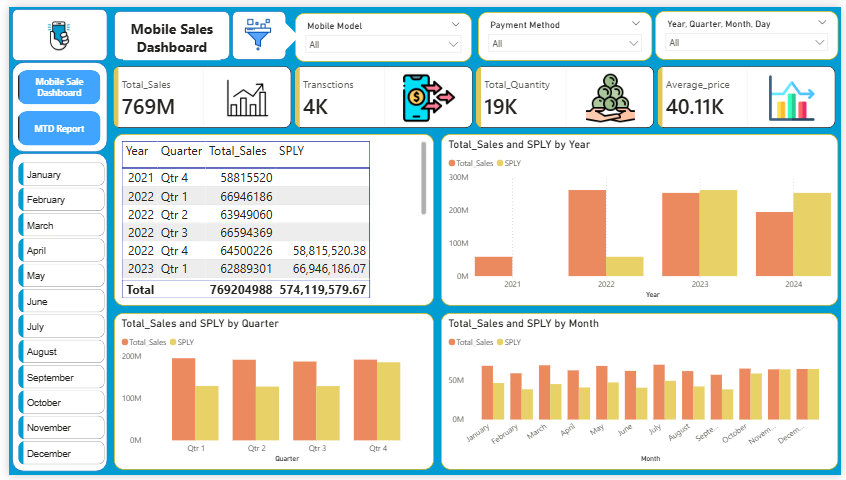

The dashboard page shown, as its layout file describes it:
{"tool":"powerbi","page":{"name":"Mobile Sale Dashboard","canvas":[1280,720],"ordinal":0},"visuals":[{"type":"shape","box":[5,3.3,146.7,80],"z":0},{"type":"image","box":[48.3,18.3,60,50],"z":1000},{"type":"shape","box":[5,85,146.7,138.3],"z":2000},{"type":"shape","box":[5,225,146.7,490],"z":3000},{"type":"advancedSlicerVisual","fields":{"Values":["Custom_Calendar.Date.Variation.Date Hierarchy.Month"]},"box":[8.3,236.7,138.3,478.3],"z":4000},{"type":"cardVisual","fields":{"Data":["Mobile_Sales_data.Total_Sales","Mobile_Sales_data.Transctions","Mobile_Sales_data.Total_Quantity","Mobile_Sales_data.Average_price"]},"box":[151.5,83.3,1128.8,112.1],"z":5000},{"type":"slicer","fields":{"Values":["Mobile_Sales_data.Mobile Model"]},"box":[439.4,8.5,272.1,75.1],"z":6000},{"type":"slicer","fields":{"Values":["Mobile_Sales_data.Payment Method"]},"box":[721.4,7.1,267.9,75.1],"z":7000},{"type":"slicer","fields":{"Values":["Mobile_Sales_data.Brand"]},"box":[993.5,5.7,282,75.1],"z":8000},{"type":"shape","box":[343.3,6.7,83.3,75],"z":9000},{"type":"shape","box":[400,23.3,46.7,45],"z":10000},{"type":"image","box":[343.3,5,80,75],"z":11000},{"type":"shape","box":[161.7,6.7,178,75],"z":12000},{"type":"textbox","box":[175,13.3,150,68.3],"z":13000},{"type":"azureMap","fields":{"Category":["Mobile_Sales_data.City"],"Size":["Mobile_Sales_data.Total_Sales"]},"box":[161.6,189.9,270,354.3],"z":14000},{"type":"lineChart","fields":{"Category":["Custom_Calendar.Date.Variation.Date Hierarchy.Month"],"Y":["Mobile_Sales_data.Total_Quantity"]},"box":[439.4,189.9,836.2,170.1],"z":15000},{"type":"funnel","fields":{"Y":["CountNonNull(Mobile_Sales_data.Customer Age)"],"Category":["Mobile_Sales_data.Rating Status"]},"box":[439.4,364.3,409.6,180],"z":16000},{"type":"pieChart","fields":{"Y":["Mobile_Sales_data.Transctions"],"Category":["Mobile_Sales_data.Payment Method"]},"box":[856.1,365.7,418.1,178.6],"z":17000},{"type":"clusteredBarChart","fields":{"Y":["Mobile_Sales_data.Total_Sales"],"Category":["Mobile_Sales_data.Mobile Model"]},"box":[439.4,548.5,408.2,164.4],"z":18000},{"type":"areaChart","fields":{"Y":["Mobile_Sales_data.Total_Sales"],"Category":["Custom_Calendar.Day Name"]},"box":[856.1,548.5,418.1,164],"z":19000},{"type":"tableEx","fields":{"Values":["Mobile_Sales_data.Brand","Mobile_Sales_data.Total_Sales","Mobile_Sales_data.Transctions"]},"box":[161.6,549.9,270,164.4],"z":20000},{"type":"pageNavigator","box":[14.2,96.4,127.6,116.2],"z":20001}]}

Visuals, with their boxes in screenshot pixels (x1, y1, x2, y2), scaled from the page's 1280x720 canvas onto the 846x480 screenshot:
shape: box=[3, 2, 100, 56]
image: box=[32, 12, 72, 46]
shape: box=[3, 57, 100, 149]
shape: box=[3, 150, 100, 477]
advancedSlicerVisual - Custom_Calendar.Date.Variation.Date Hierarchy.Month: box=[5, 158, 97, 477]
cardVisual - Mobile_Sales_data.Total_Sales x Mobile_Sales_data.Transctions: box=[100, 56, 845, 130]
slicer - Mobile_Sales_data.Mobile Model: box=[290, 6, 470, 56]
slicer - Mobile_Sales_data.Payment Method: box=[477, 5, 654, 55]
slicer - Mobile_Sales_data.Brand: box=[657, 4, 843, 54]
shape: box=[227, 4, 282, 54]
shape: box=[264, 16, 295, 46]
image: box=[227, 3, 280, 53]
shape: box=[107, 4, 225, 54]
textbox: box=[116, 9, 215, 54]
azureMap - Mobile_Sales_data.City x Mobile_Sales_data.Total_Sales: box=[107, 127, 285, 363]
lineChart - Custom_Calendar.Date.Variation.Date Hierarchy.Month x Mobile_Sales_data.Total_Quantity: box=[290, 127, 843, 240]
funnel - CountNonNull(Mobile_Sales_data.Customer Age) x Mobile_Sales_data.Rating Status: box=[290, 243, 561, 363]
pieChart - Mobile_Sales_data.Transctions x Mobile_Sales_data.Payment Method: box=[566, 244, 842, 363]
clusteredBarChart - Mobile_Sales_data.Total_Sales x Mobile_Sales_data.Mobile Model: box=[290, 366, 560, 475]
areaChart - Mobile_Sales_data.Total_Sales x Custom_Calendar.Day Name: box=[566, 366, 842, 475]
tableEx - Mobile_Sales_data.Brand x Mobile_Sales_data.Total_Sales: box=[107, 367, 285, 476]
pageNavigator: box=[9, 64, 94, 142]
